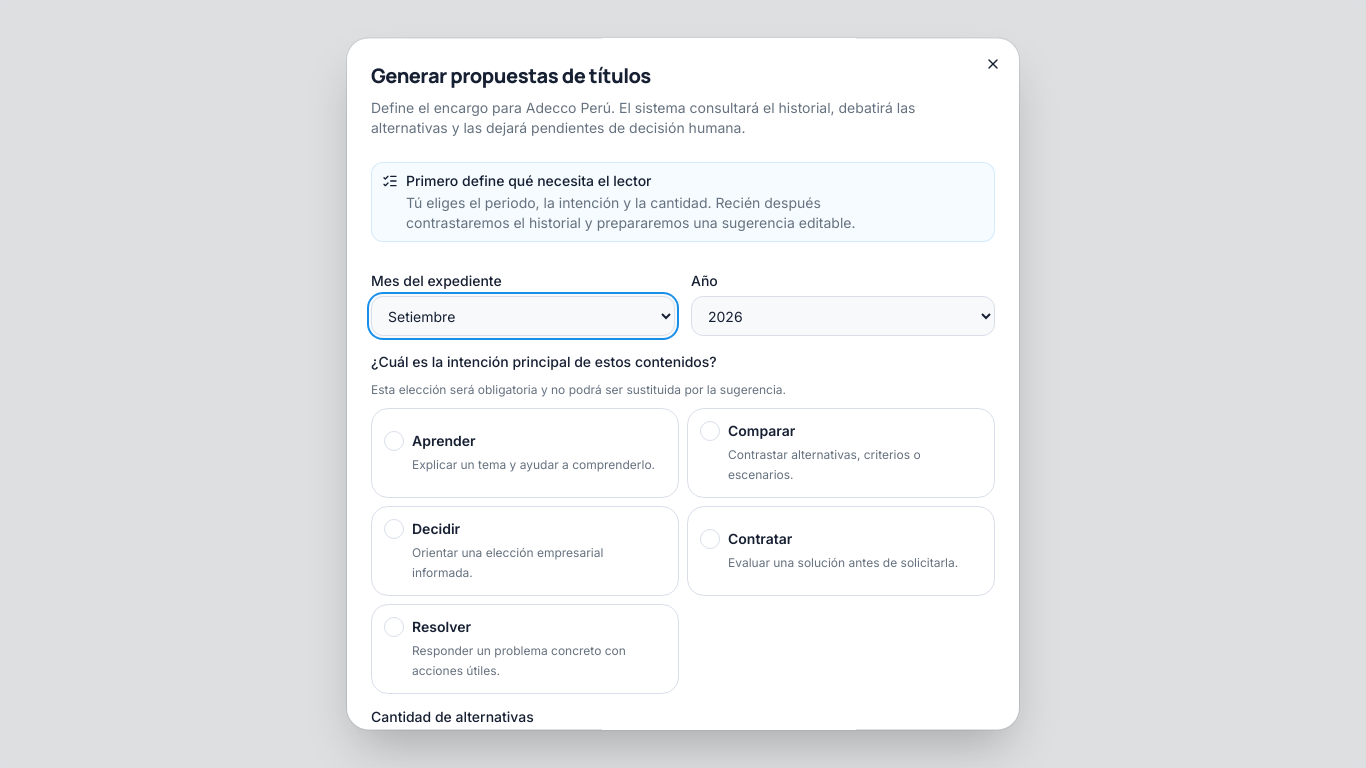
it: GenerateTitlesDialog › abre con un encargo nuevo, completo y editable
The image size is (1366, 768).
Click the button "Decidir Orientar una elección empresarial informada." at (525, 551), box [371,506,679,596]
(page scrolled)
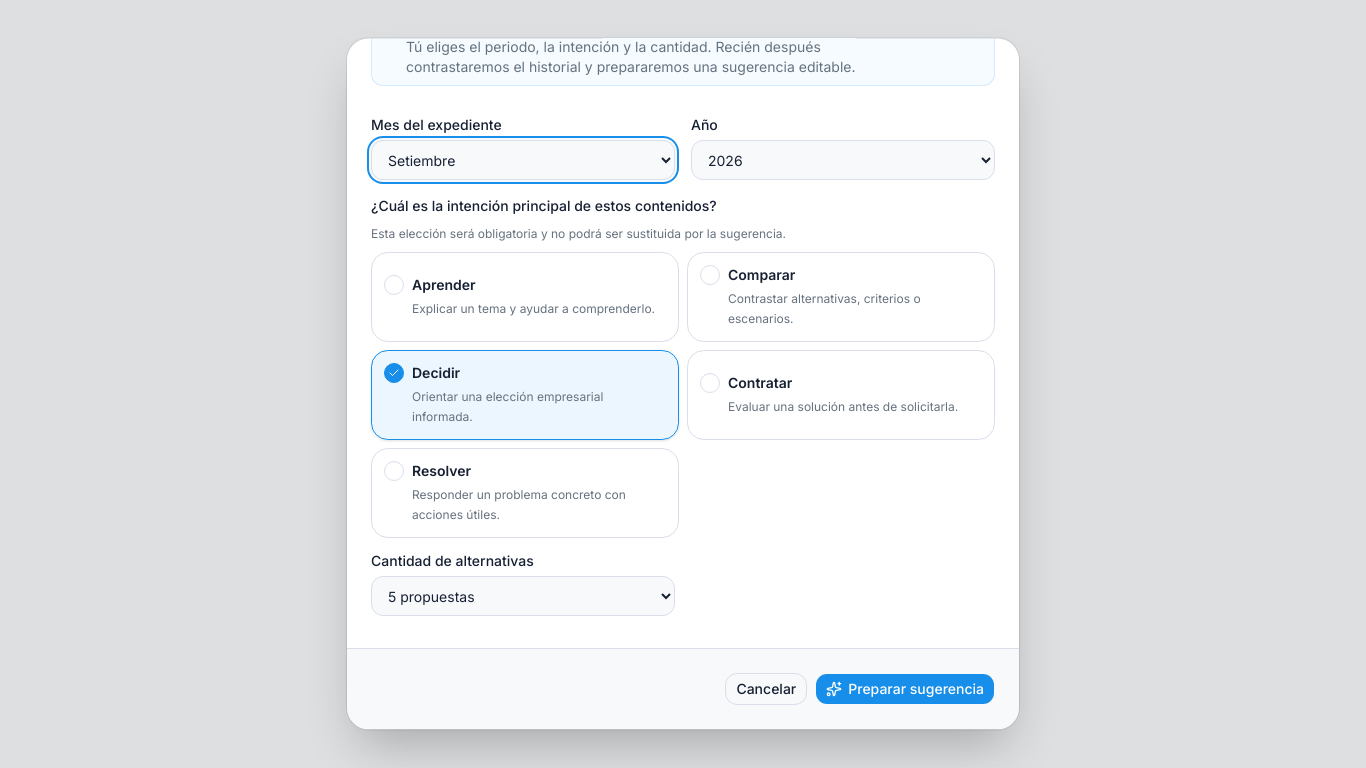
Click the button "Preparar sugerencia" at (905, 689), box [815,673,995,705]
(page scrolled)
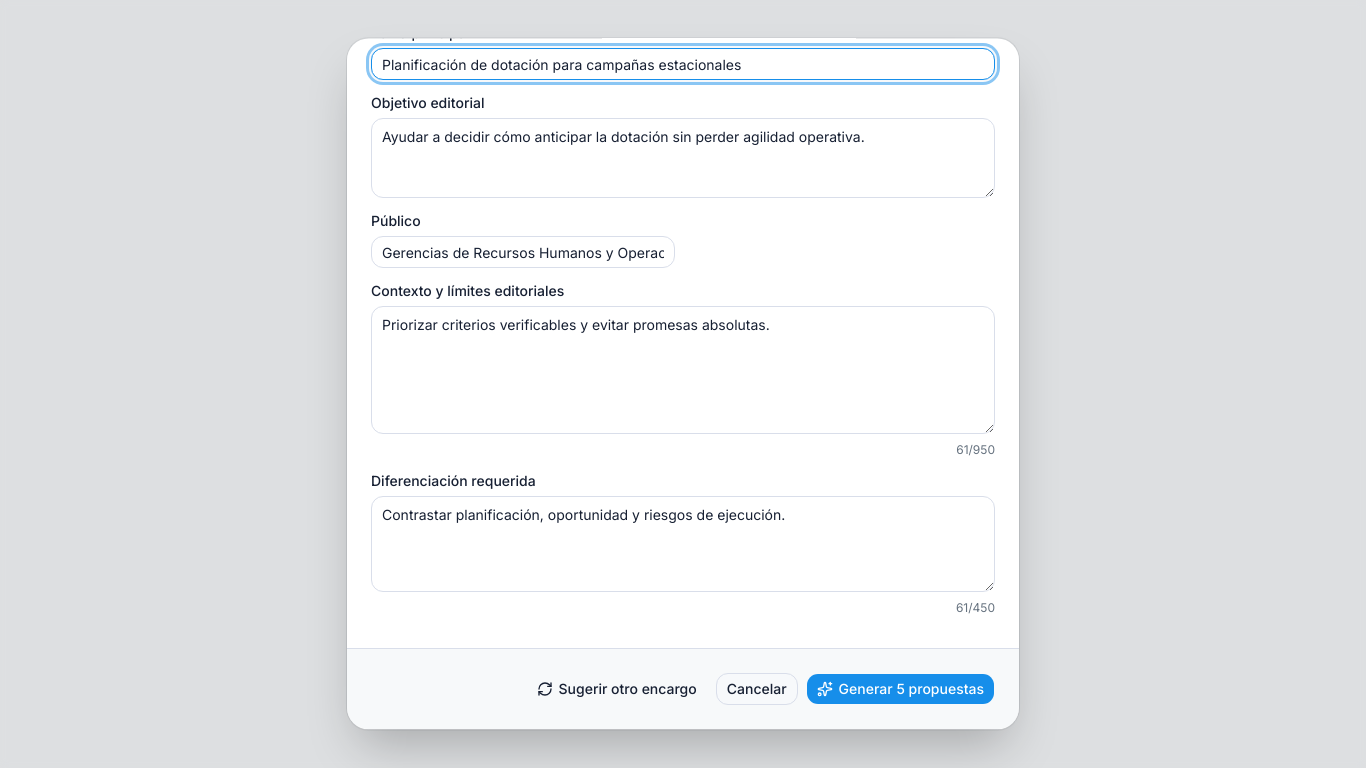
Expected: the field labelled "Tema principal" holds "Planificación de dotación para campañas estacionales", [371,48,995,80]
Expected: the text box labelled "Objetivo editorial" holds "Ayudar a decidir cómo anticipar la dotación sin perder agilidad operativa.", [371,118,995,198]
Expected: the field labelled "Público" holds "Gerencias de Recursos Humanos y Operaciones", [371,236,675,268]
